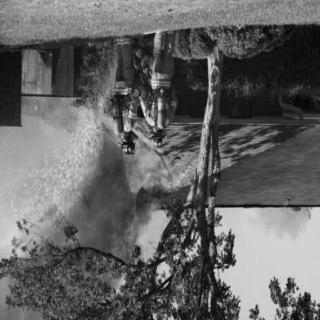Fire: (102, 136, 178, 276)
